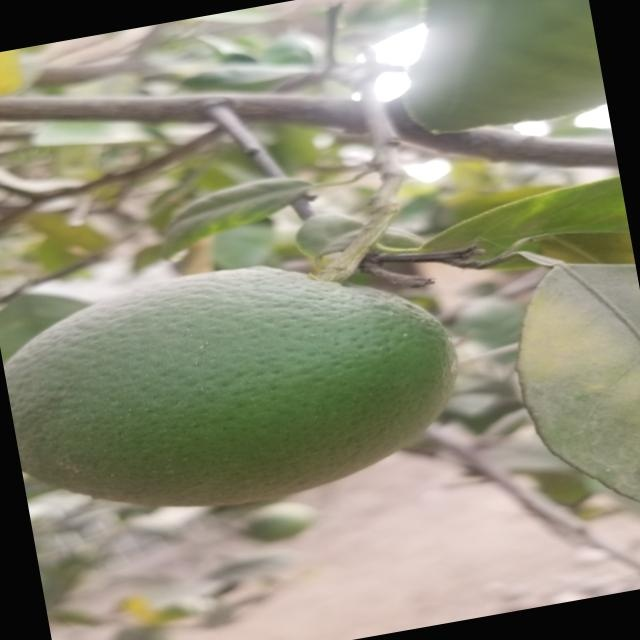agrume: (0, 237, 451, 535)
